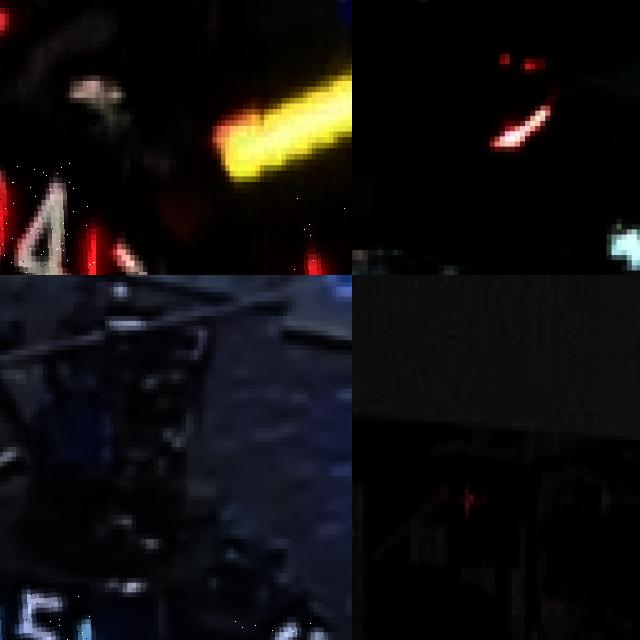B5: (0, 582, 91, 640), (233, 616, 340, 640)
R4: (0, 159, 95, 275), (290, 187, 352, 275)
